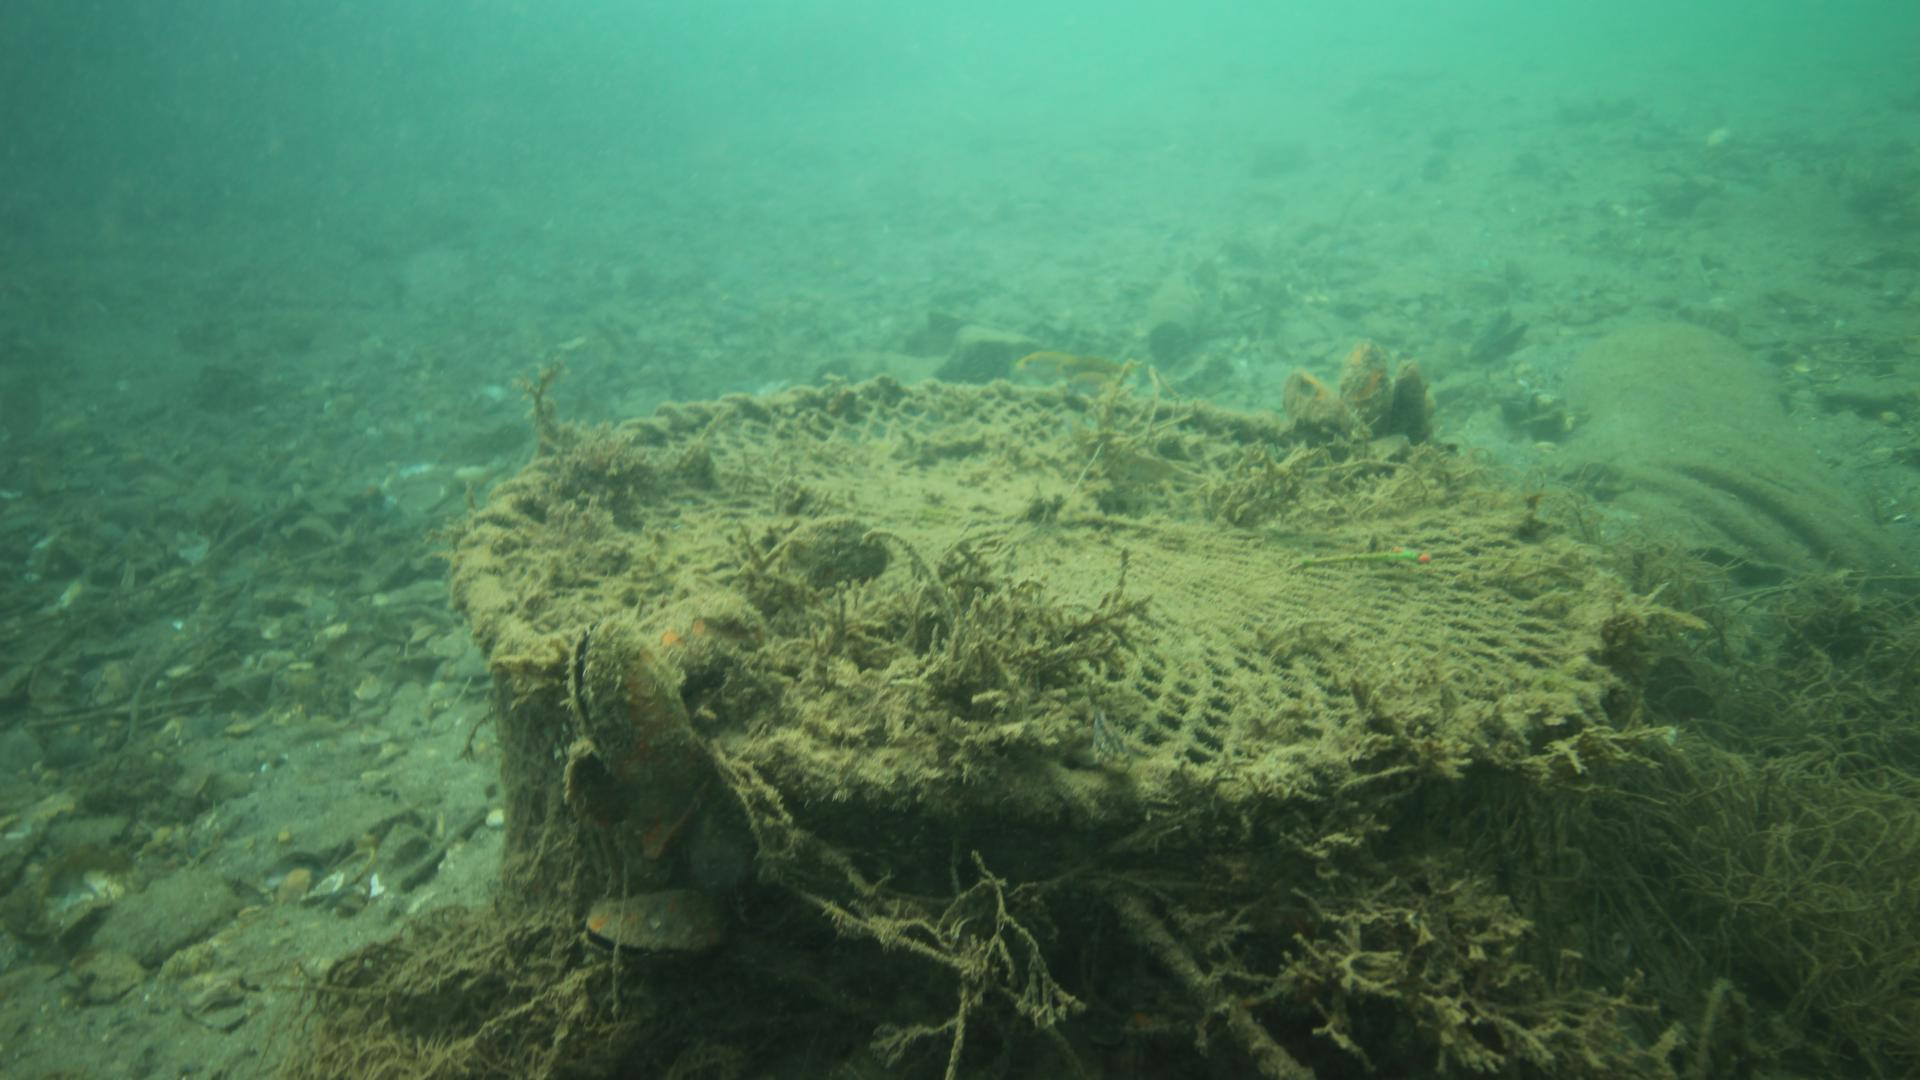circular fish trap: (447, 375, 1646, 998)
